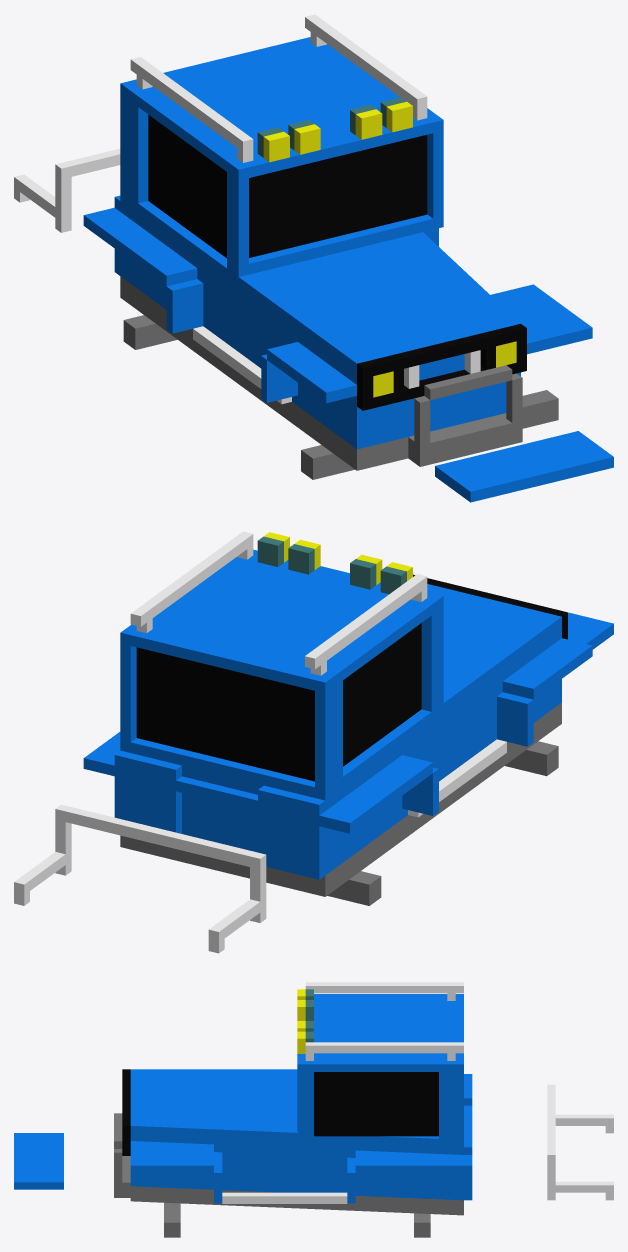
File: car.obj
The picture shows the model from 3 angles, top to bottom: view 1: azimuth 30°, elevation 25°; view 2: azimuth 150°, elevation 25°; view 3: azimuth 270°, elevation 25°; orthographic projection. The views are drawn at different scales.
Bounding box in the file's own units: 2.6 × 2.4 × 7.2.
